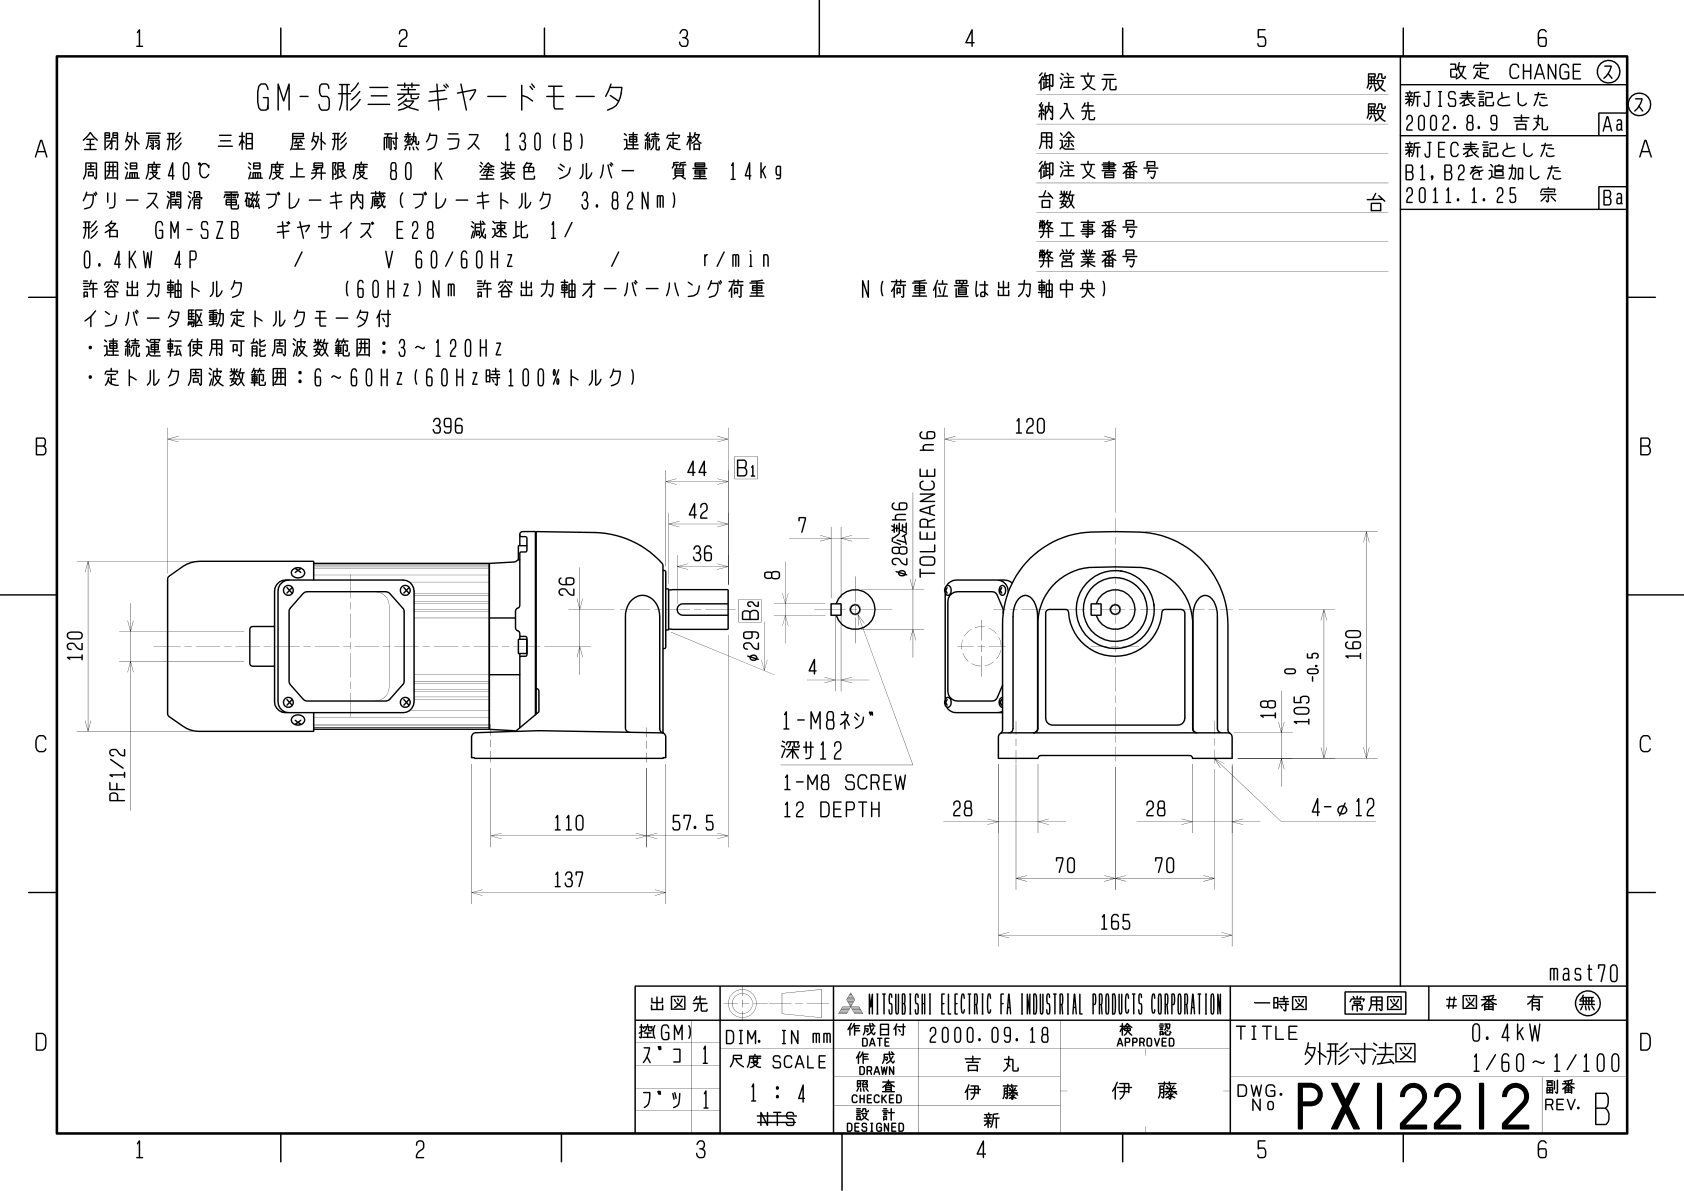GM_S_インバタ屋外＿三相_脚: (6, 10, 1684, 1191)
